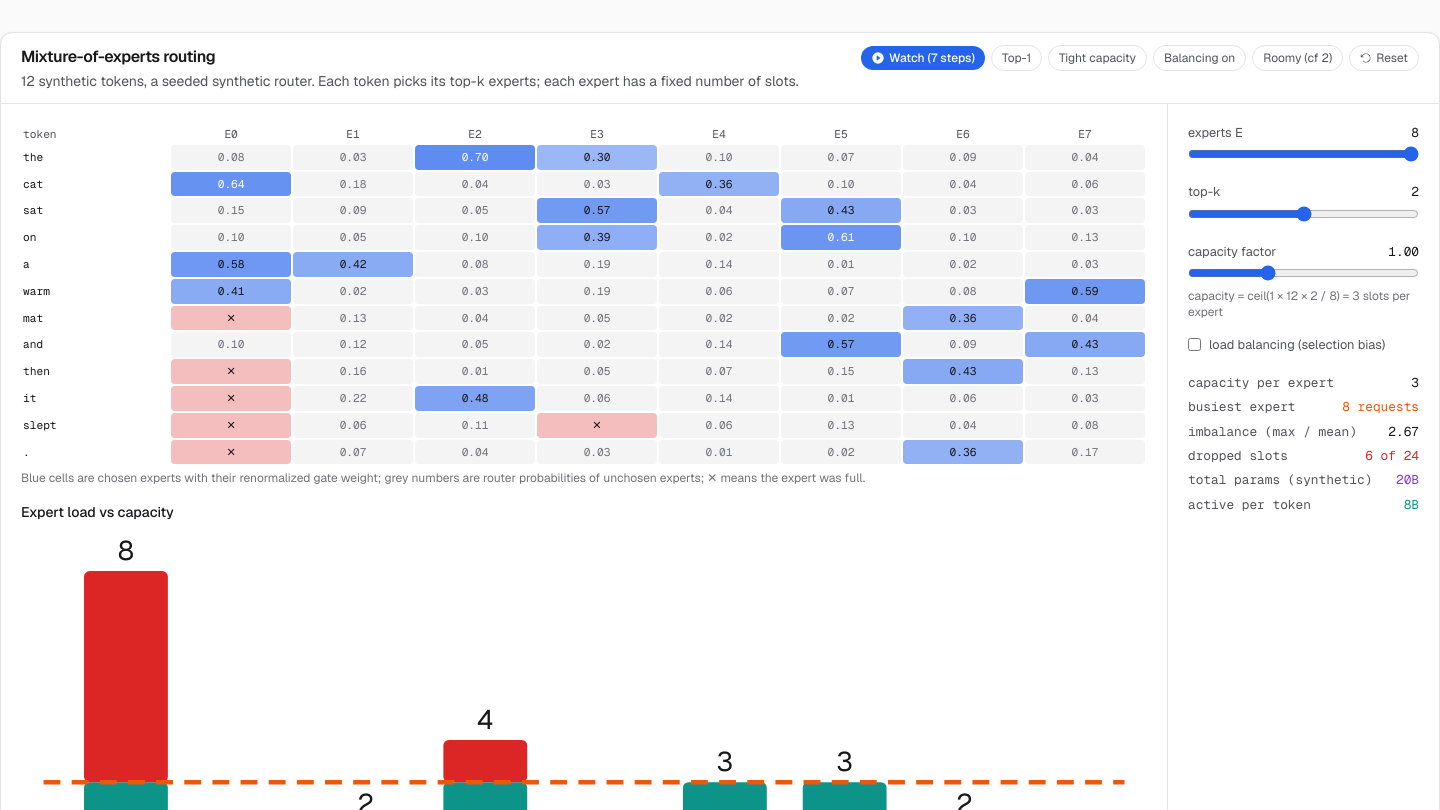
Test: moe routing math › renders and responds to presets
Expected: the text "20B" is shown, top-left (1396, 471), bottom-right (1419, 490)
Click the button "Roomy (cf 2)". click: (1298, 58)
box: top-left (1252, 45), bottom-right (1343, 71)
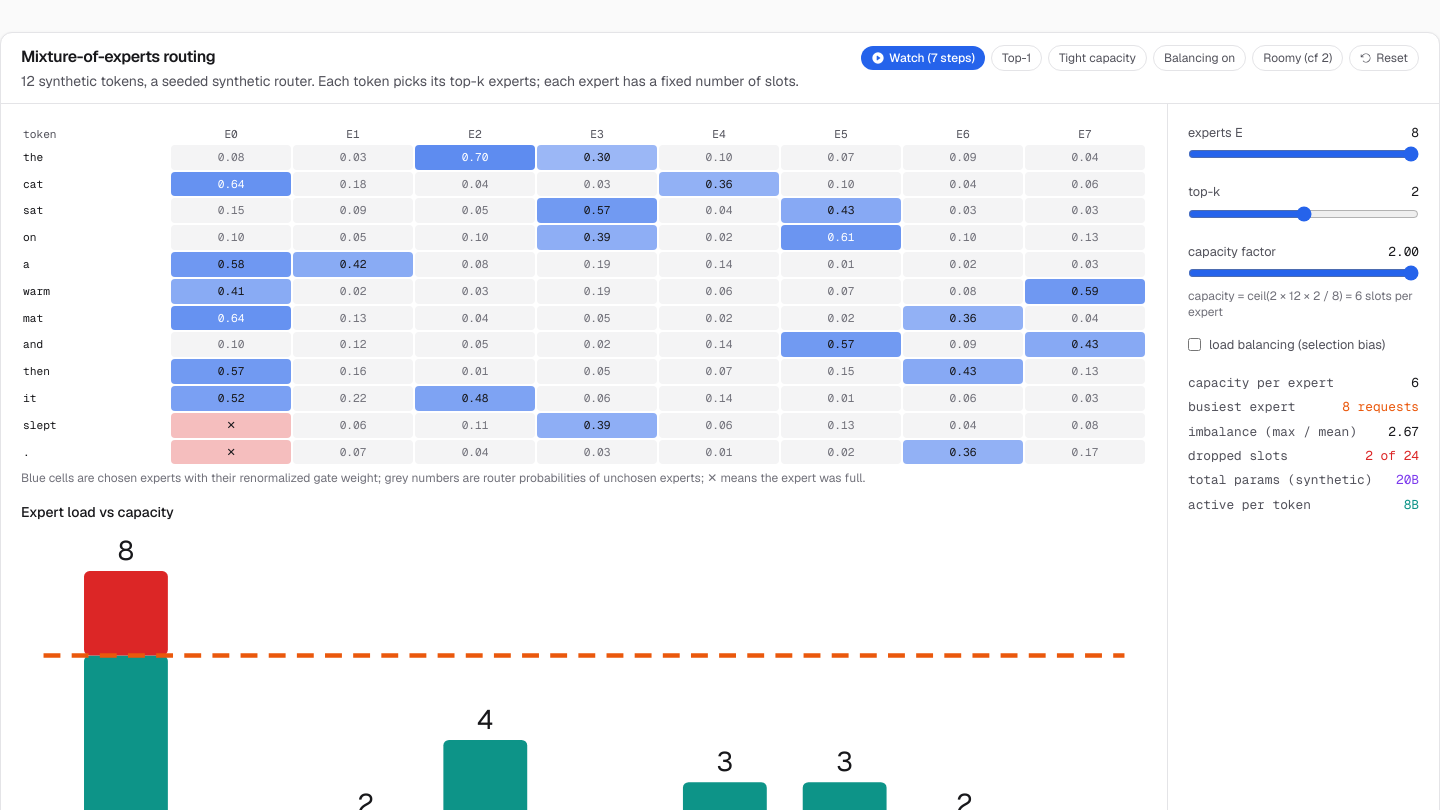
Result: the text "2 of 24" is shown at top-left (1365, 447), bottom-right (1419, 465)
